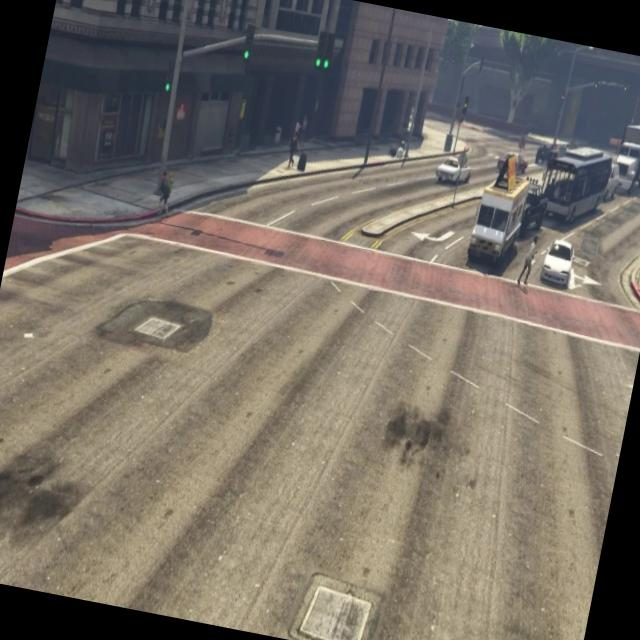Green-Signal: (304, 22, 343, 84), (236, 16, 260, 70), (156, 52, 180, 102)
